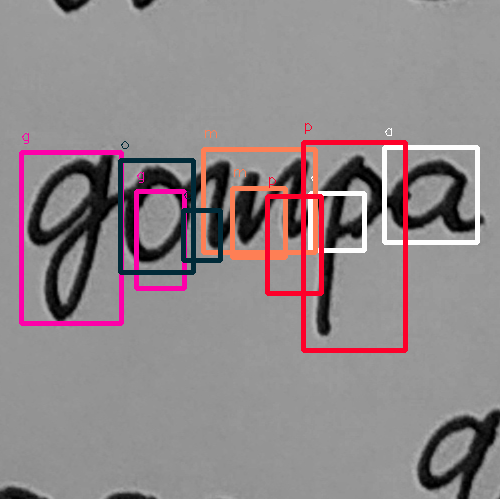a: (389, 154, 487, 239)
g: (21, 147, 117, 323)
m: (199, 151, 313, 252)
o: (120, 161, 195, 265)
p: (314, 151, 388, 342)
